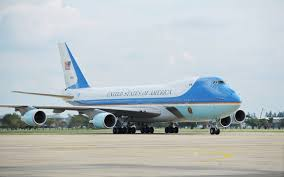maybay_dansu: (9, 42, 250, 136)
